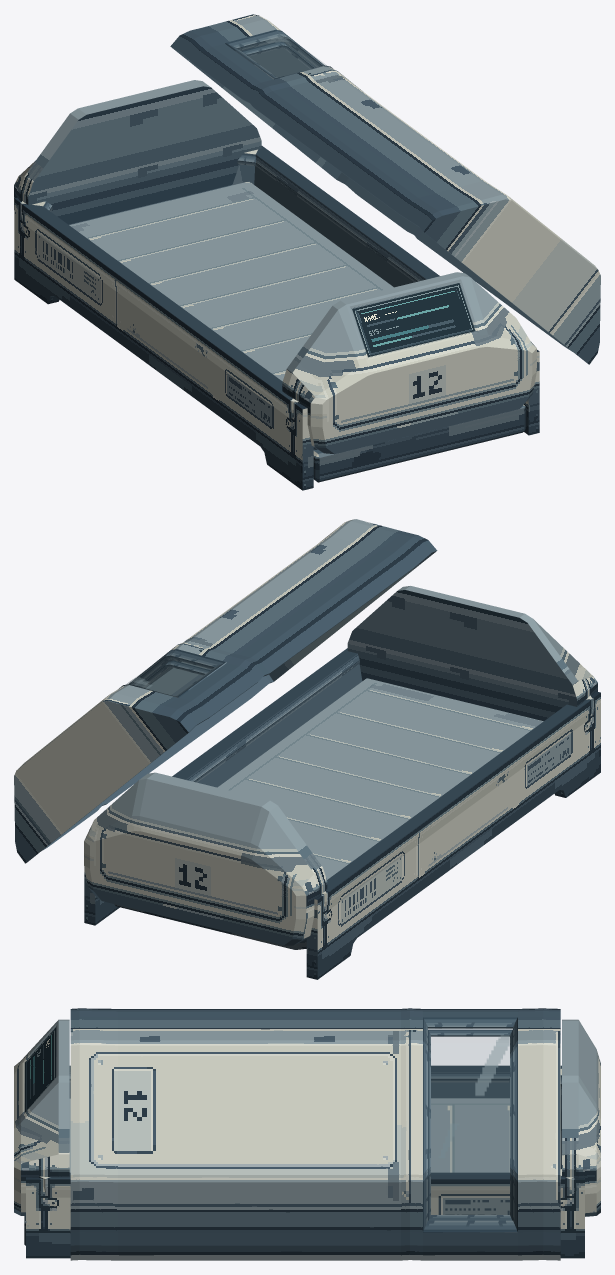
The model's file is pod_open_v4.glb.
3 renders of one model, top to bottom at view 1: azimuth 30°, elevation 25°; view 2: azimuth 150°, elevation 25°; view 3: azimuth 270°, elevation 25°, orthographic. The views are drawn at different scales.
Visible parts, largest first — view 1: pod_v4_lid, pod_v4_shell_end, pod_v4_shell_side, pod_v4_mattress, pod_v4_section.005, pod_v4_display, pod_v4_interior, pod_v4_interior.001, pod_v4_glass, pod_v4_section, pod_v4_section.003; view 2: pod_v4_lid, pod_v4_shell_end, pod_v4_mattress, pod_v4_shell_side, pod_v4_section.005, pod_v4_interior, pod_v4_interior.001, pod_v4_glass, pod_v4_section, pod_v4_section.003; view 3: pod_v4_lid, pod_v4_glass, pod_v4_shell_side, pod_v4_shell_end, pod_v4_mattress, pod_v4_section.003, pod_v4_section.004, pod_v4_interior.001, pod_v4_display, pod_v4_section.
Part boxes in pixels (<box>): pod_v4_lid: <box>170,14,600,364</box>; pod_v4_shell_end: <box>19,80,539,490</box>; pod_v4_shell_side: <box>14,113,539,490</box>; pod_v4_mattress: <box>69,181,393,381</box>; pod_v4_section.005: <box>28,86,261,224</box>; pod_v4_display: <box>352,283,475,357</box>; pod_v4_interior: <box>171,40,587,363</box>; pod_v4_interior.001: <box>43,153,426,287</box>; pod_v4_glass: <box>233,33,325,77</box>; pod_v4_section: <box>44,154,424,282</box>; pod_v4_section.003: <box>225,29,332,79</box>; pod_v4_lid: <box>14,519,436,863</box>; pod_v4_shell_end: <box>84,586,593,979</box>; pod_v4_mattress: <box>217,678,543,879</box>; pod_v4_shell_side: <box>85,619,600,979</box>; pod_v4_section.005: <box>347,590,576,721</box>; pod_v4_interior: <box>27,551,436,862</box>; pod_v4_interior.001: <box>185,654,362,787</box>; pod_v4_glass: <box>126,654,218,695</box>; pod_v4_section: <box>187,655,359,782</box>; pod_v4_section.003: <box>119,649,226,697</box>; pod_v4_lid: <box>70,1008,560,1260</box>; pod_v4_glass: <box>426,1023,514,1224</box>; pod_v4_shell_side: <box>21,1065,596,1258</box>; pod_v4_shell_end: <box>14,1019,600,1221</box>; pod_v4_mattress: <box>69,1098,509,1172</box>; pod_v4_section.003: <box>423,1017,517,1232</box>; pod_v4_section.004: <box>428,1029,512,1220</box>; pod_v4_interior.001: <box>69,1072,561,1168</box>; pod_v4_display: <box>25,1027,55,1112</box>; pod_v4_section: <box>69,1073,561,1087</box>.
Bounding box in the file's own units: 1.42 × 0.9219 × 2.29.
8 materials, 8 textured.
